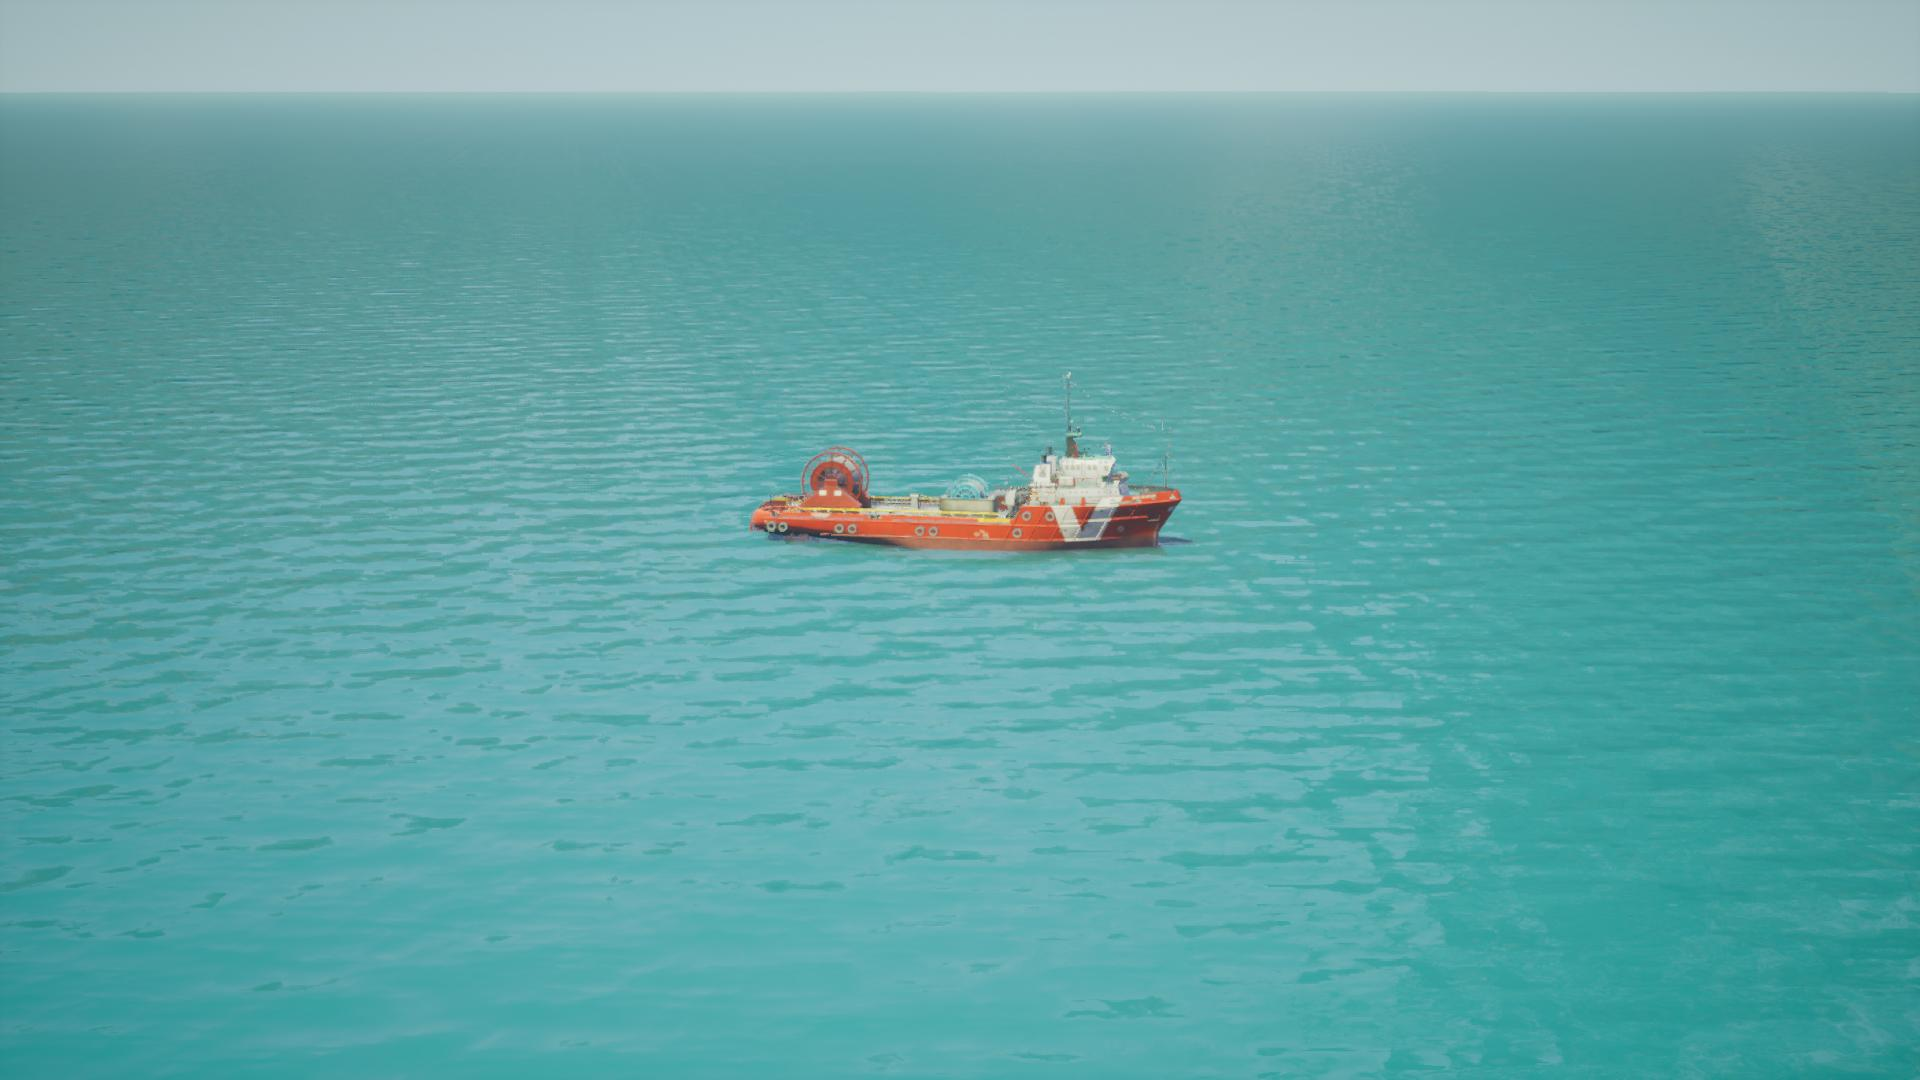Tug Boat: (746, 394, 1187, 558)
